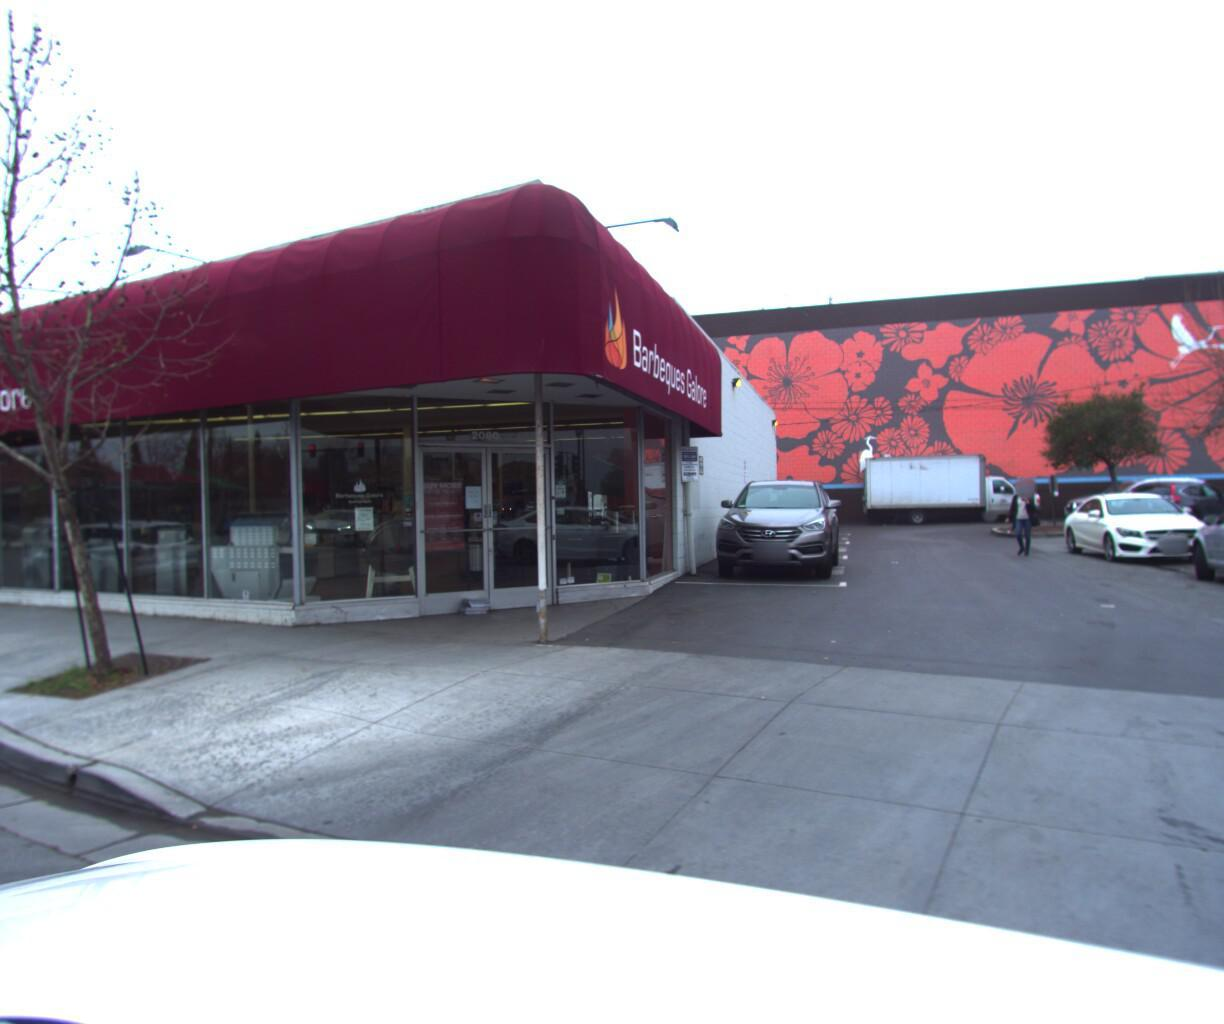car: (706, 467, 844, 589), (1170, 481, 1224, 602)
